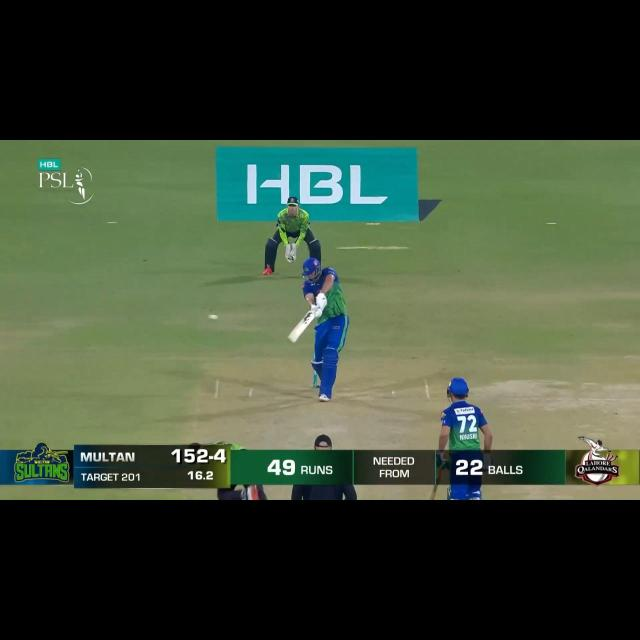bat: (288, 308, 318, 344)
toe: (287, 334, 298, 344)
